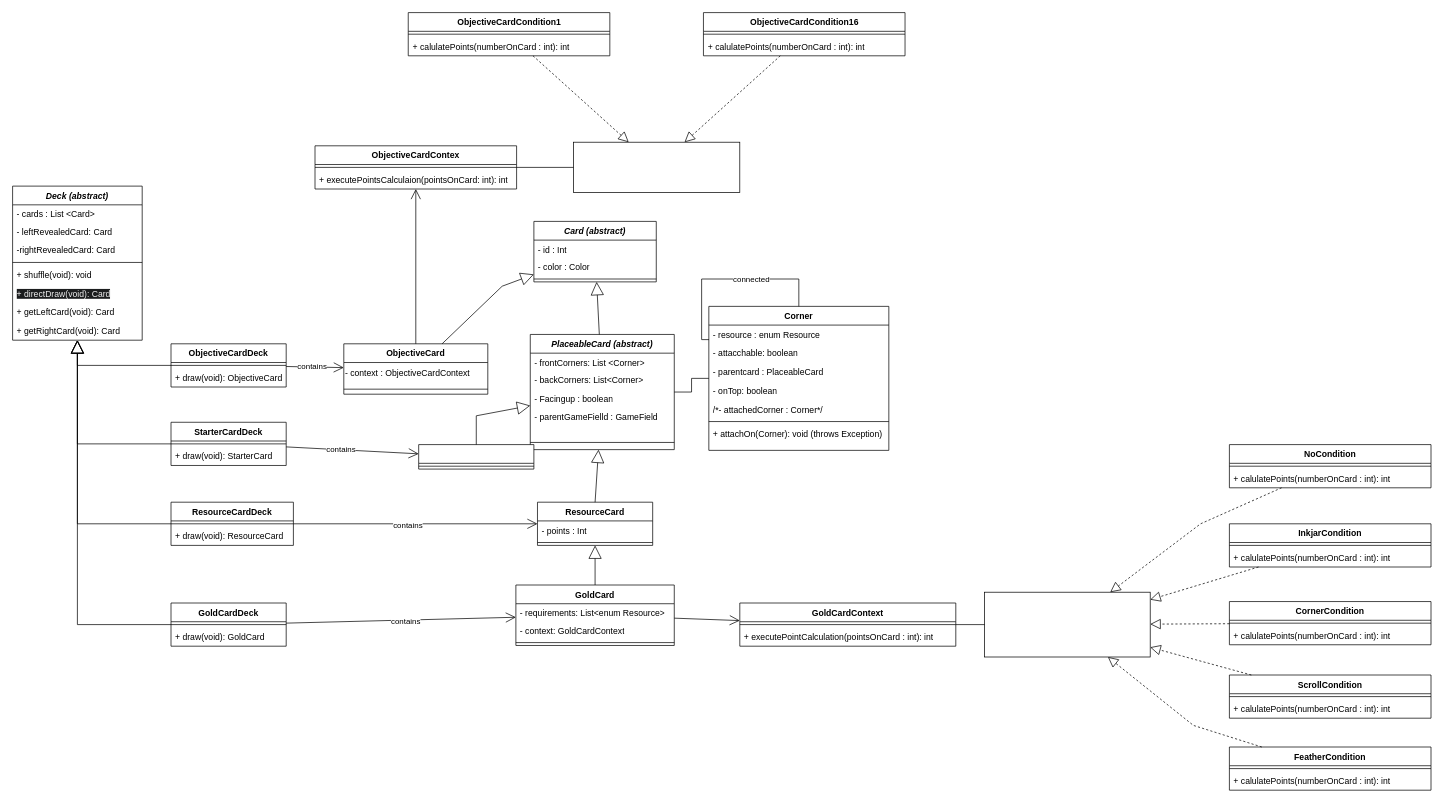
Image size: 1444x805. Some labels were removed from this diagram. Here are the shapes that lost their labels. From the top down, the centre of each, then its label:
At (x=656, y=167): "<<Interface>> ObjectiveStrategy + calulatePoints(numberOnCard : int): int".
At (x=476, y=456): "StarterCard".
At (x=1067, y=624): "<<Interface>> ConditionStrategy + calulatePoints(numberOnCard : int): int".
